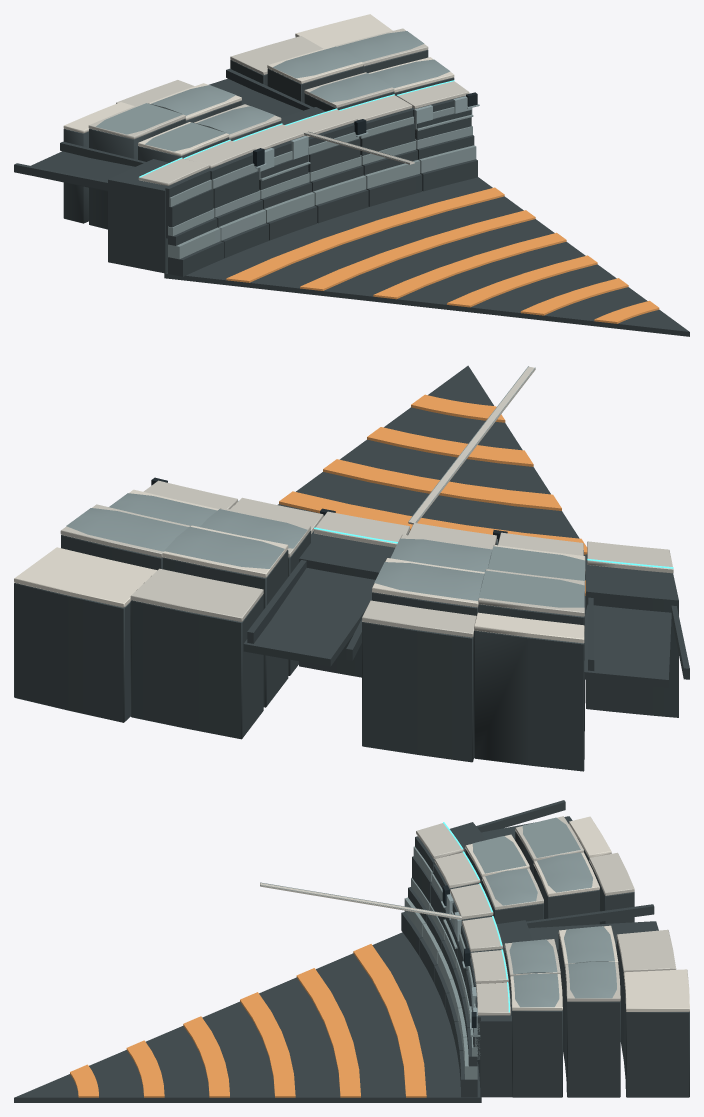
The model's file is Weather_Lung_Sector_03_Structure.glb.
3 views of the same model, one above another, from view 1: azimuth 30°, elevation 25°; view 2: azimuth 150°, elevation 25°; view 3: azimuth 270°, elevation 25° (orthographic). The views are drawn at different scales.
Visible parts, largest first — view 1: Weather_Lung_Sector_03_Structure; view 2: Weather_Lung_Sector_03_Structure; view 3: Weather_Lung_Sector_03_Structure.
Boxes of the visible parts, bbox=[...] form: Weather_Lung_Sector_03_Structure: bbox=[14, 14, 689, 336]; Weather_Lung_Sector_03_Structure: bbox=[14, 365, 689, 771]; Weather_Lung_Sector_03_Structure: bbox=[14, 800, 689, 1102].
Bounding box in the file's own units: 6270 × 1830 × 8238.
